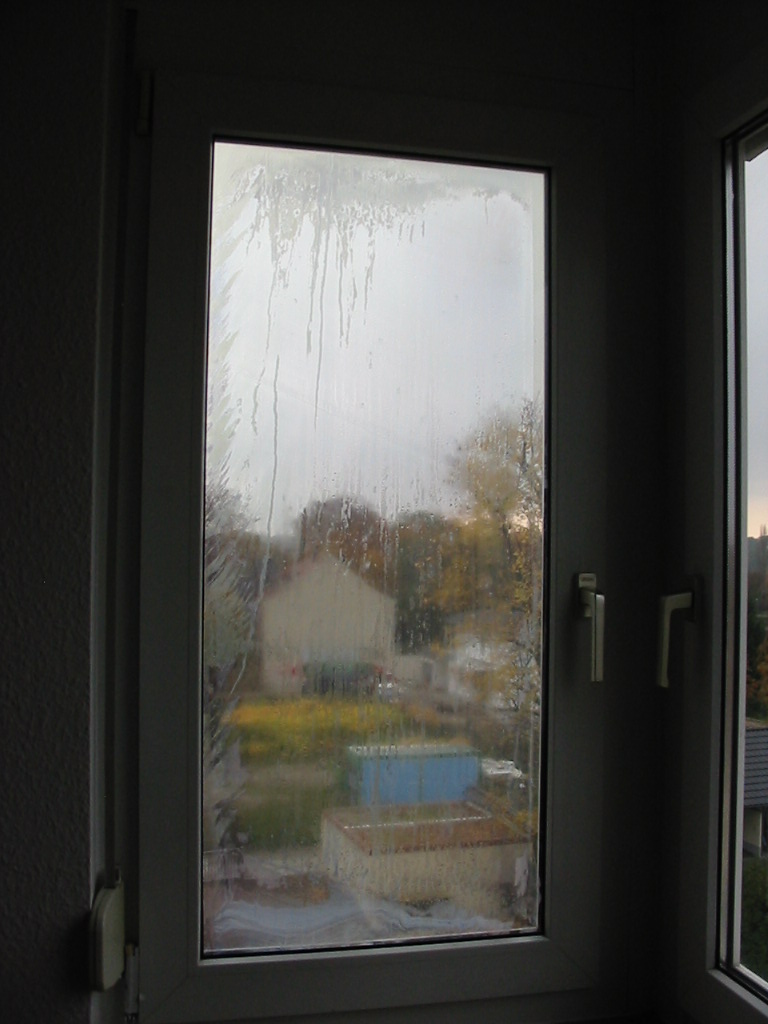windows: (143, 98, 624, 997)
